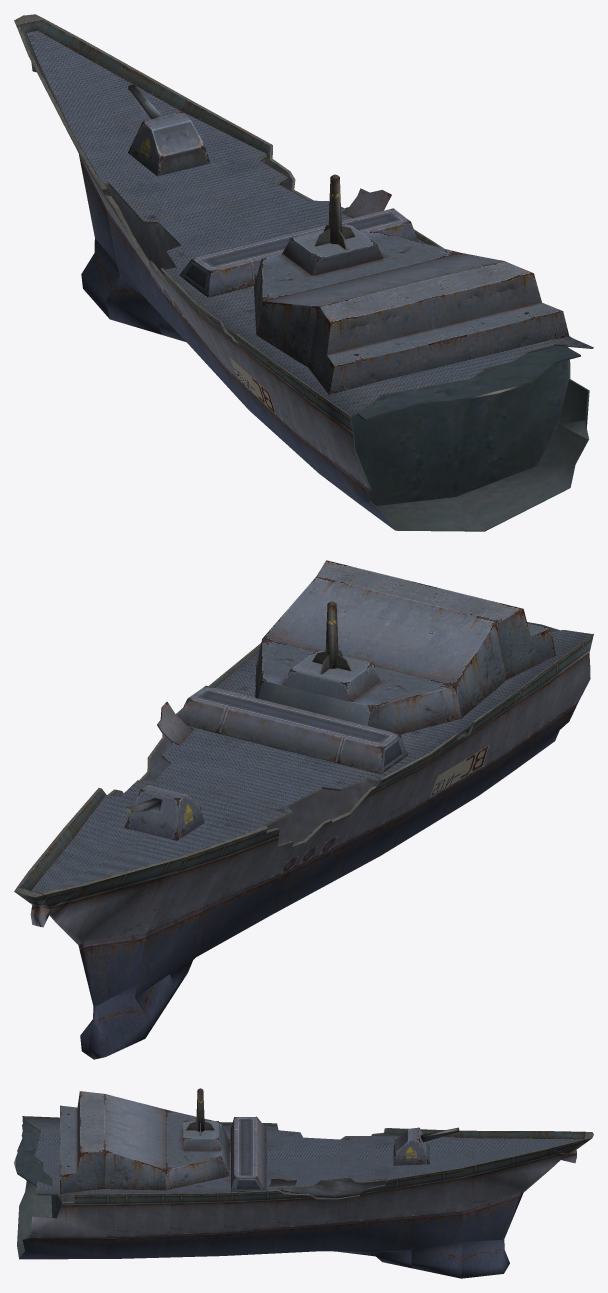
Rendered from Prop_DjShip003a_lod1.glb.
3 views of the same model, one above another, from view 1: azimuth 30°, elevation 25°; view 2: azimuth 150°, elevation 25°; view 3: azimuth 270°, elevation 25° (orthographic). The views are drawn at different scales.
Visible parts, largest first — view 1: dj_ship003a_lod1; view 2: dj_ship003a_lod1; view 3: dj_ship003a_lod1.
Part boxes in pixels (x1,y1,x2,y2): dj_ship003a_lod1: (14,14,593,531); dj_ship003a_lod1: (14,560,593,1059); dj_ship003a_lod1: (14,1088,593,1278).
Bounding box in the file's own units: 27.55 × 31.19 × 87.18.
1 material, 1 textured.
